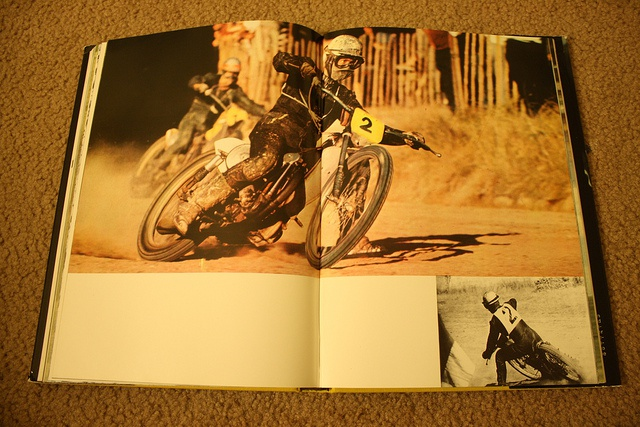non-vehicle: (136, 59, 442, 270), (132, 103, 257, 197), (482, 333, 588, 384)
